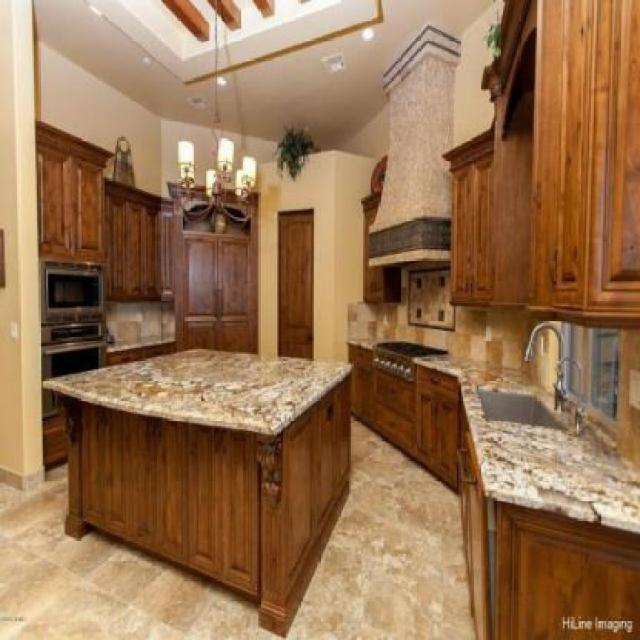Floor: (0, 461, 284, 638), (285, 415, 477, 639)
